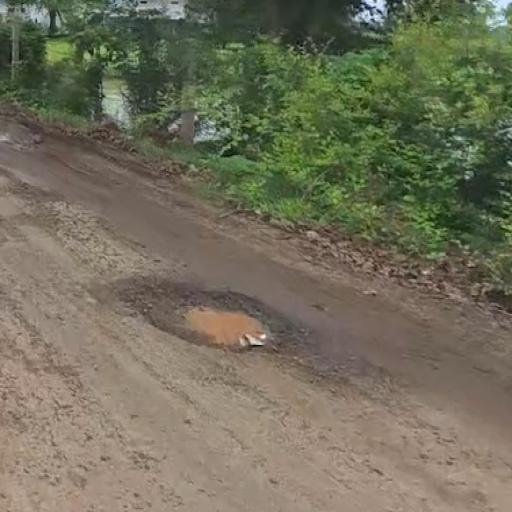pothole: (94, 239, 311, 391)
ravelling: (14, 169, 147, 284)
